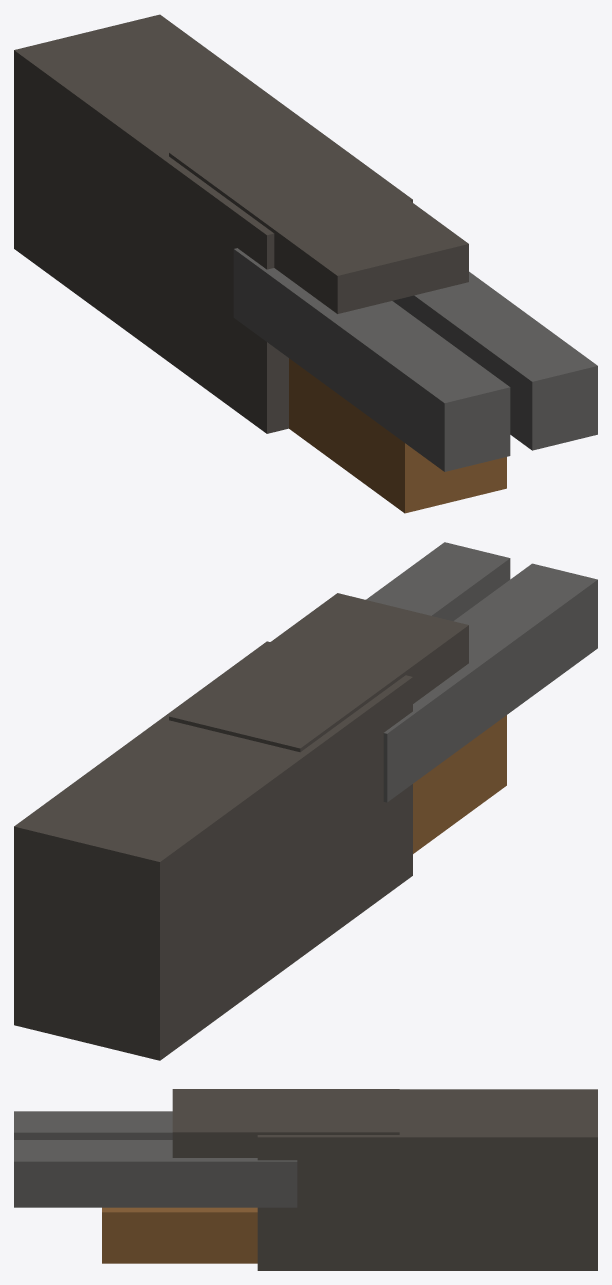
The picture shows the model from 3 angles, top to bottom: view 1: azimuth 30°, elevation 25°; view 2: azimuth 150°, elevation 25°; view 3: azimuth 270°, elevation 25°; orthographic projection. The views are drawn at different scales.
Size of the model in its own units: 0.21 by 0.265 by 1.03.
